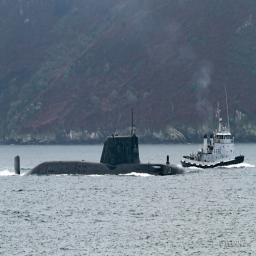submarine: (16, 132, 184, 177)
